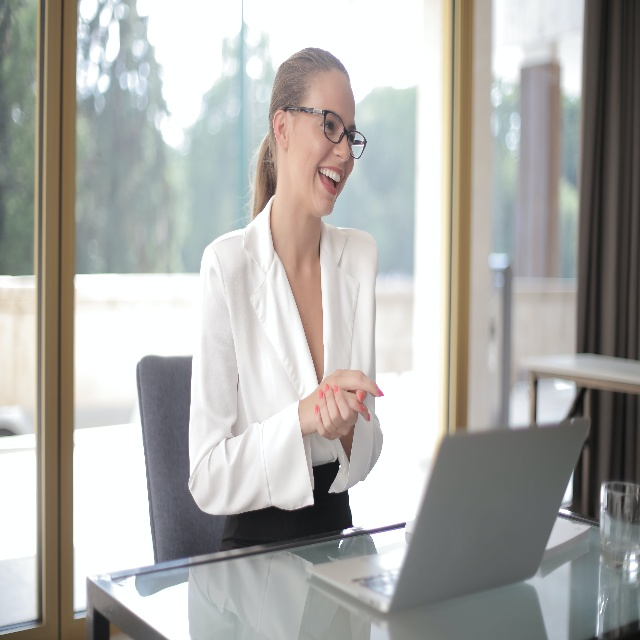Gafas: (322, 104, 367, 160)
Sin_guantes: (309, 369, 385, 432), (314, 380, 370, 440)
